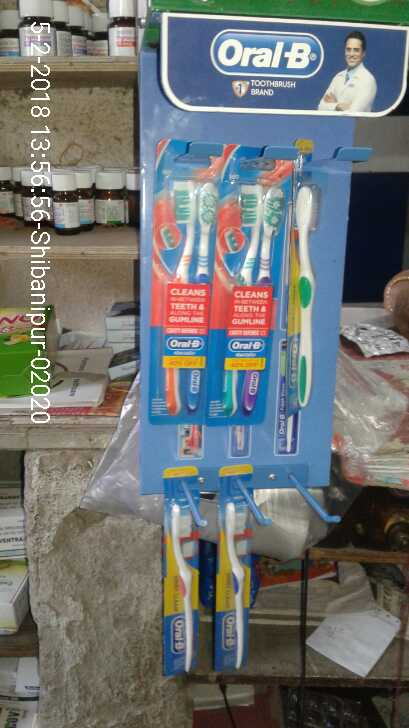oralb: (157, 159, 225, 425), (225, 154, 277, 419), (161, 463, 204, 674), (214, 465, 255, 678), (293, 177, 326, 416)
